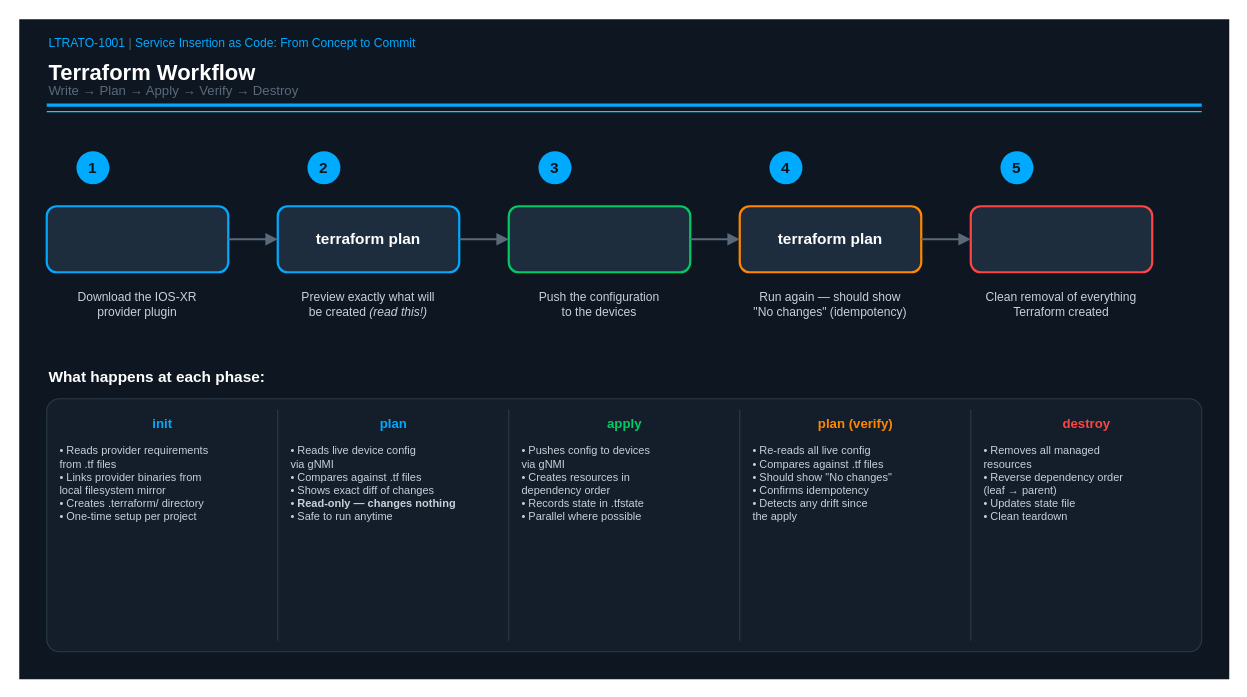
This 1247x697 diagram has some shape labels left out. Here are the shapes that lost their labels. From the top down, the centre of each, then its label:
point 137,239: terraform init
point 599,239: terraform apply
point 1061,239: terraform destroy
